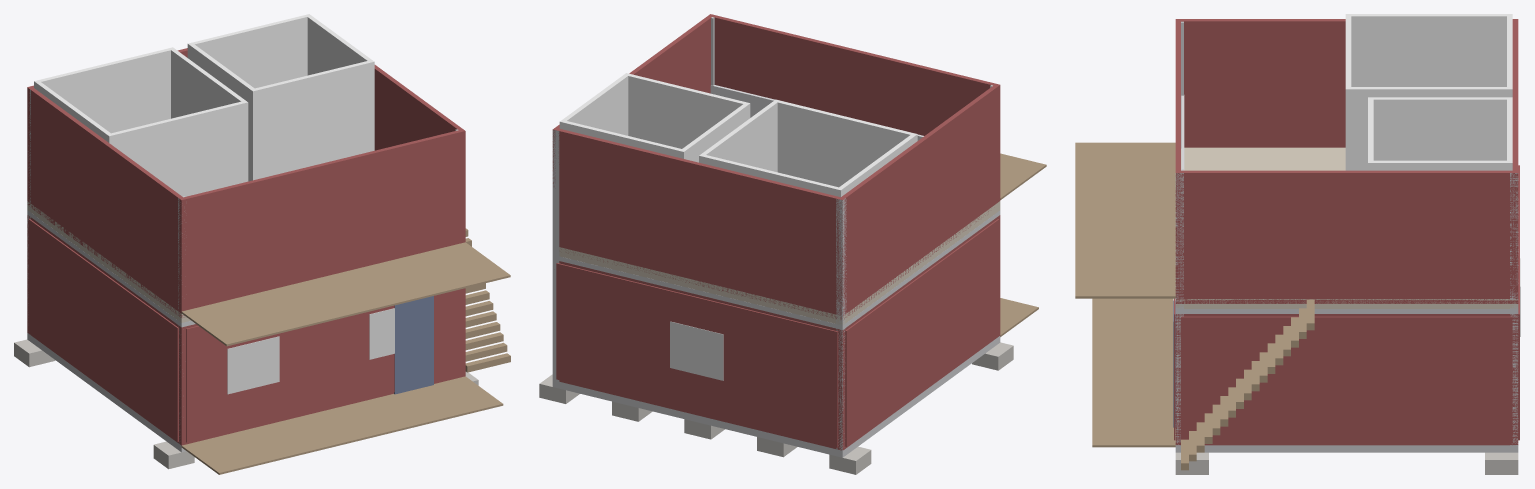
The model's file is Duplex-20-Base-MaroonRed-LOD2.glb.
The picture shows the model from 3 angles, left to right: view 1: azimuth 30°, elevation 25°; view 2: azimuth 150°, elevation 25°; view 3: azimuth 270°, elevation 25°; orthographic projection. The views are drawn at different scales.
Visible parts, largest first — view 1: ExteriorShellUpper, ExteriorPanelsStandard, StudyUpper, BedroomUpper, BalconyUpper, BalconyGround, WindowsStandard, EntryDoor, StaircaseExternal, ExteriorShell, FoundationBlocks, FloorUpper (+2 smaller); view 2: ExteriorShellUpper, ExteriorPanelsStandard, BedroomUpper, StudyUpper, FloorUpper, VerticalStructure, FoundationBlocks, BaseFrame, ExteriorShell, WindowsStandard, TopFrame, BalconyUpper (+2 smaller); view 3: ExteriorShellUpper, ExteriorPanelsStandard, BalconyUpper, BedroomUpper, BalconyGround, StudyUpper, FloorUpper, StaircaseExternal, ExteriorShell, VerticalStructure, BaseFrame, TopFrame (+1 smaller).
Part boxes in pixels (bbox=[...]): ExteriorShellUpper: bbox=[27, 48, 465, 317]; ExteriorPanelsStandard: bbox=[28, 218, 461, 442]; StudyUpper: bbox=[187, 14, 374, 181]; BedroomUpper: bbox=[34, 47, 248, 196]; BalconyUpper: bbox=[181, 242, 510, 346]; BalconyGround: bbox=[181, 376, 503, 474]; WindowsStandard: bbox=[227, 308, 394, 394]; EntryDoor: bbox=[394, 296, 433, 394]; StaircaseExternal: bbox=[465, 228, 510, 372]; ExteriorShell: bbox=[27, 215, 465, 445]; FoundationBlocks: bbox=[14, 339, 478, 469]; FloorUpper: bbox=[27, 201, 190, 322]; ExteriorShellUpper: bbox=[552, 14, 1000, 319]; ExteriorPanelsStandard: bbox=[556, 219, 999, 447]; BedroomUpper: bbox=[699, 99, 917, 197]; StudyUpper: bbox=[559, 73, 750, 162]; FloorUpper: bbox=[559, 201, 1000, 325]; VerticalStructure: bbox=[552, 17, 998, 450]; FoundationBlocks: bbox=[539, 342, 1013, 474]; BaseFrame: bbox=[552, 336, 1000, 457]; ExteriorShell: bbox=[559, 215, 1000, 450]; WindowsStandard: bbox=[670, 321, 723, 380]; TopFrame: bbox=[559, 210, 1000, 329]; BalconyUpper: bbox=[1000, 153, 1046, 199]; ExteriorShellUpper: bbox=[1175, 19, 1518, 303]; ExteriorPanelsStandard: bbox=[1174, 165, 1519, 443]; BalconyUpper: bbox=[1075, 142, 1175, 298]; BedroomUpper: bbox=[1345, 14, 1512, 170]; BalconyGround: bbox=[1092, 298, 1175, 447]; StudyUpper: bbox=[1368, 97, 1512, 170]; FloorUpper: bbox=[1175, 147, 1518, 308]; StaircaseExternal: bbox=[1181, 299, 1314, 470]; ExteriorShell: bbox=[1175, 314, 1518, 445]; VerticalStructure: bbox=[1175, 21, 1518, 445]; BaseFrame: bbox=[1175, 445, 1518, 452]; TopFrame: bbox=[1175, 309, 1518, 313].
Size of the model in its own units: 7.94 by 6 by 8.
